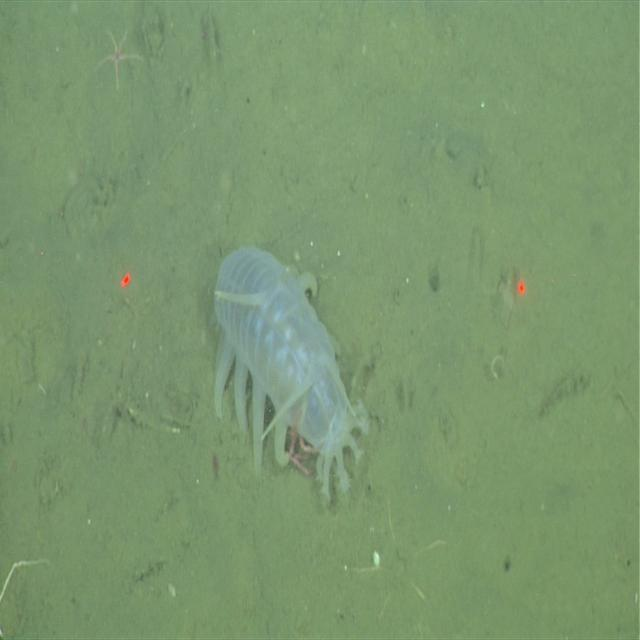Brittle Star: (346, 483, 450, 628), (92, 20, 146, 94)
Not Brittle Star: (209, 236, 371, 505)
